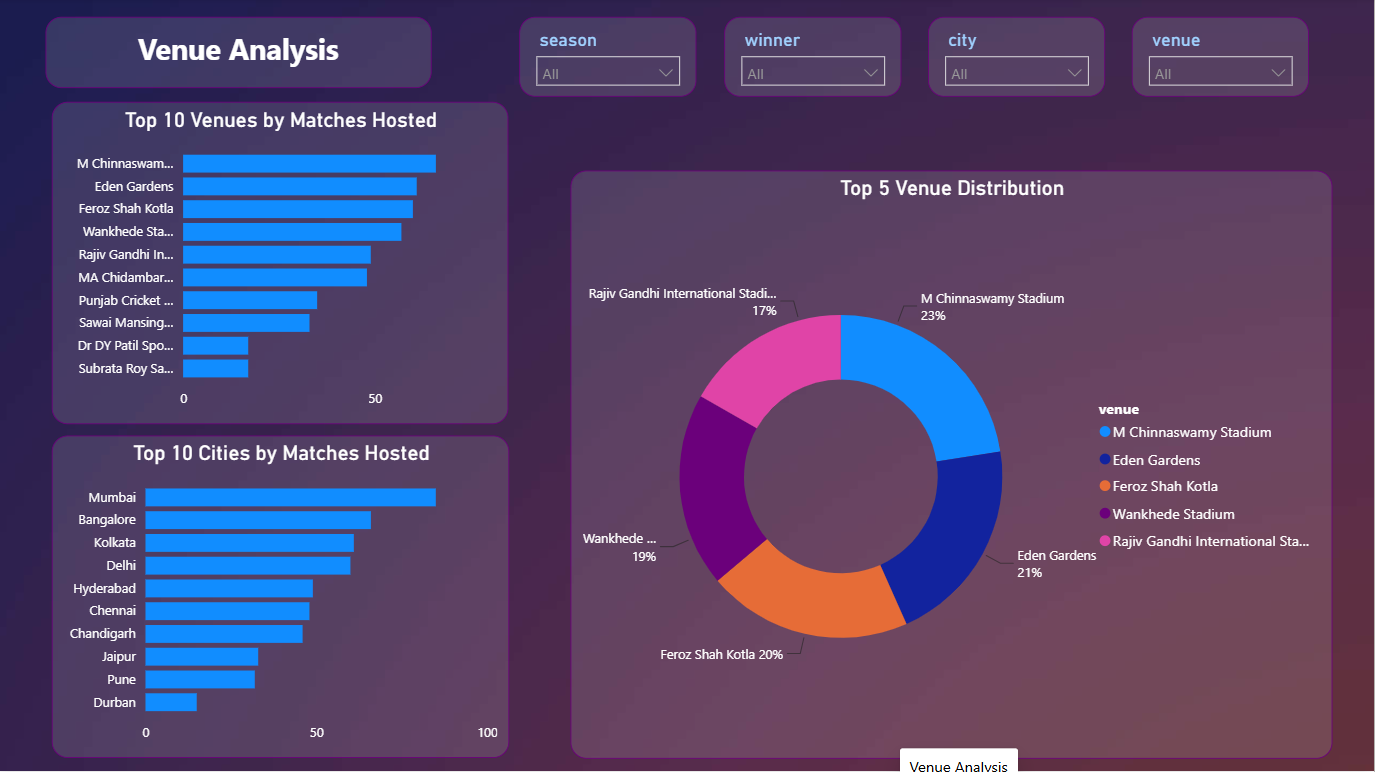

This screenshot's page, from the dashboard's own definition file:
{"tool":"powerbi","page":{"name":"Venue Analysis","canvas":[1280,720],"ordinal":5},"visuals":[{"type":"textbox","box":[44,17,359,66],"z":0},{"type":"clusteredBarChart","title":"Top 10 Venues by Matches Hosted","fields":{"Category":["matches.venue"],"Y":["CountNonNull(matches.id)"]},"box":[50,96,425,300],"z":1000},{"type":"clusteredBarChart","title":"Top 10 Cities by Matches Hosted","fields":{"Category":["matches.city"],"Y":["CountNonNull(matches.id)"]},"box":[50,407.1,425.7,300],"z":2000},{"type":"donutChart","title":"Top 5 Venue Distribution","fields":{"Category":["matches.venue"],"Y":["CountNonNull(matches.id)"]},"box":[532.9,160,708.6,547.1],"z":3000},{"type":"slicer","fields":{"Values":["matches.venue"]},"box":[1055,17,165,74],"z":4000},{"type":"slicer","title":"Season","fields":{"Values":["matches.season"]},"box":[485,17.1,165,74],"z":5000},{"type":"slicer","title":"Team","fields":{"Values":["matches.winner"]},"box":[675.1,17,165,74],"z":6000},{"type":"slicer","title":"City","fields":{"Values":["matches.city"]},"box":[865,17,165,74],"z":7000}]}

Visuals, with their boxes in screenshot pixels (x1, y1, x2, y2), scaled from the page's 1280x720 canvas onto the 1375x772 screenshot:
textbox: <region>47, 18, 433, 89</region>
"Top 10 Venues by Matches Hosted" clusteredBarChart: <region>54, 103, 510, 425</region>
"Top 10 Cities by Matches Hosted" clusteredBarChart: <region>54, 437, 511, 758</region>
"Top 5 Venue Distribution" donutChart: <region>572, 172, 1334, 758</region>
slicer - matches.venue: <region>1133, 18, 1311, 98</region>
"Season" slicer: <region>521, 18, 698, 98</region>
"Team" slicer: <region>725, 18, 902, 98</region>
"City" slicer: <region>929, 18, 1106, 98</region>
